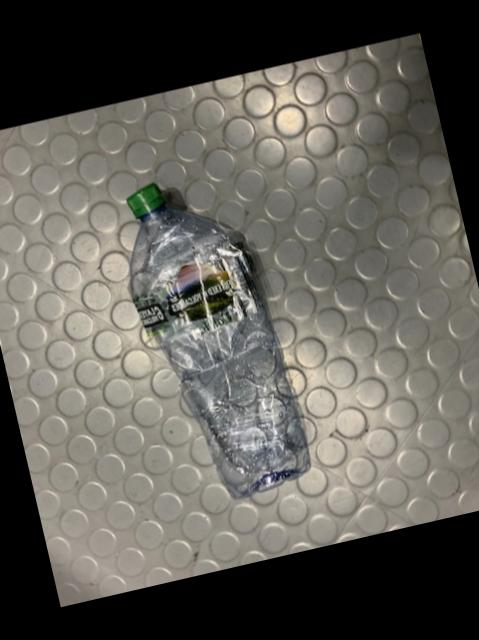plastic: (124, 182, 306, 497)
